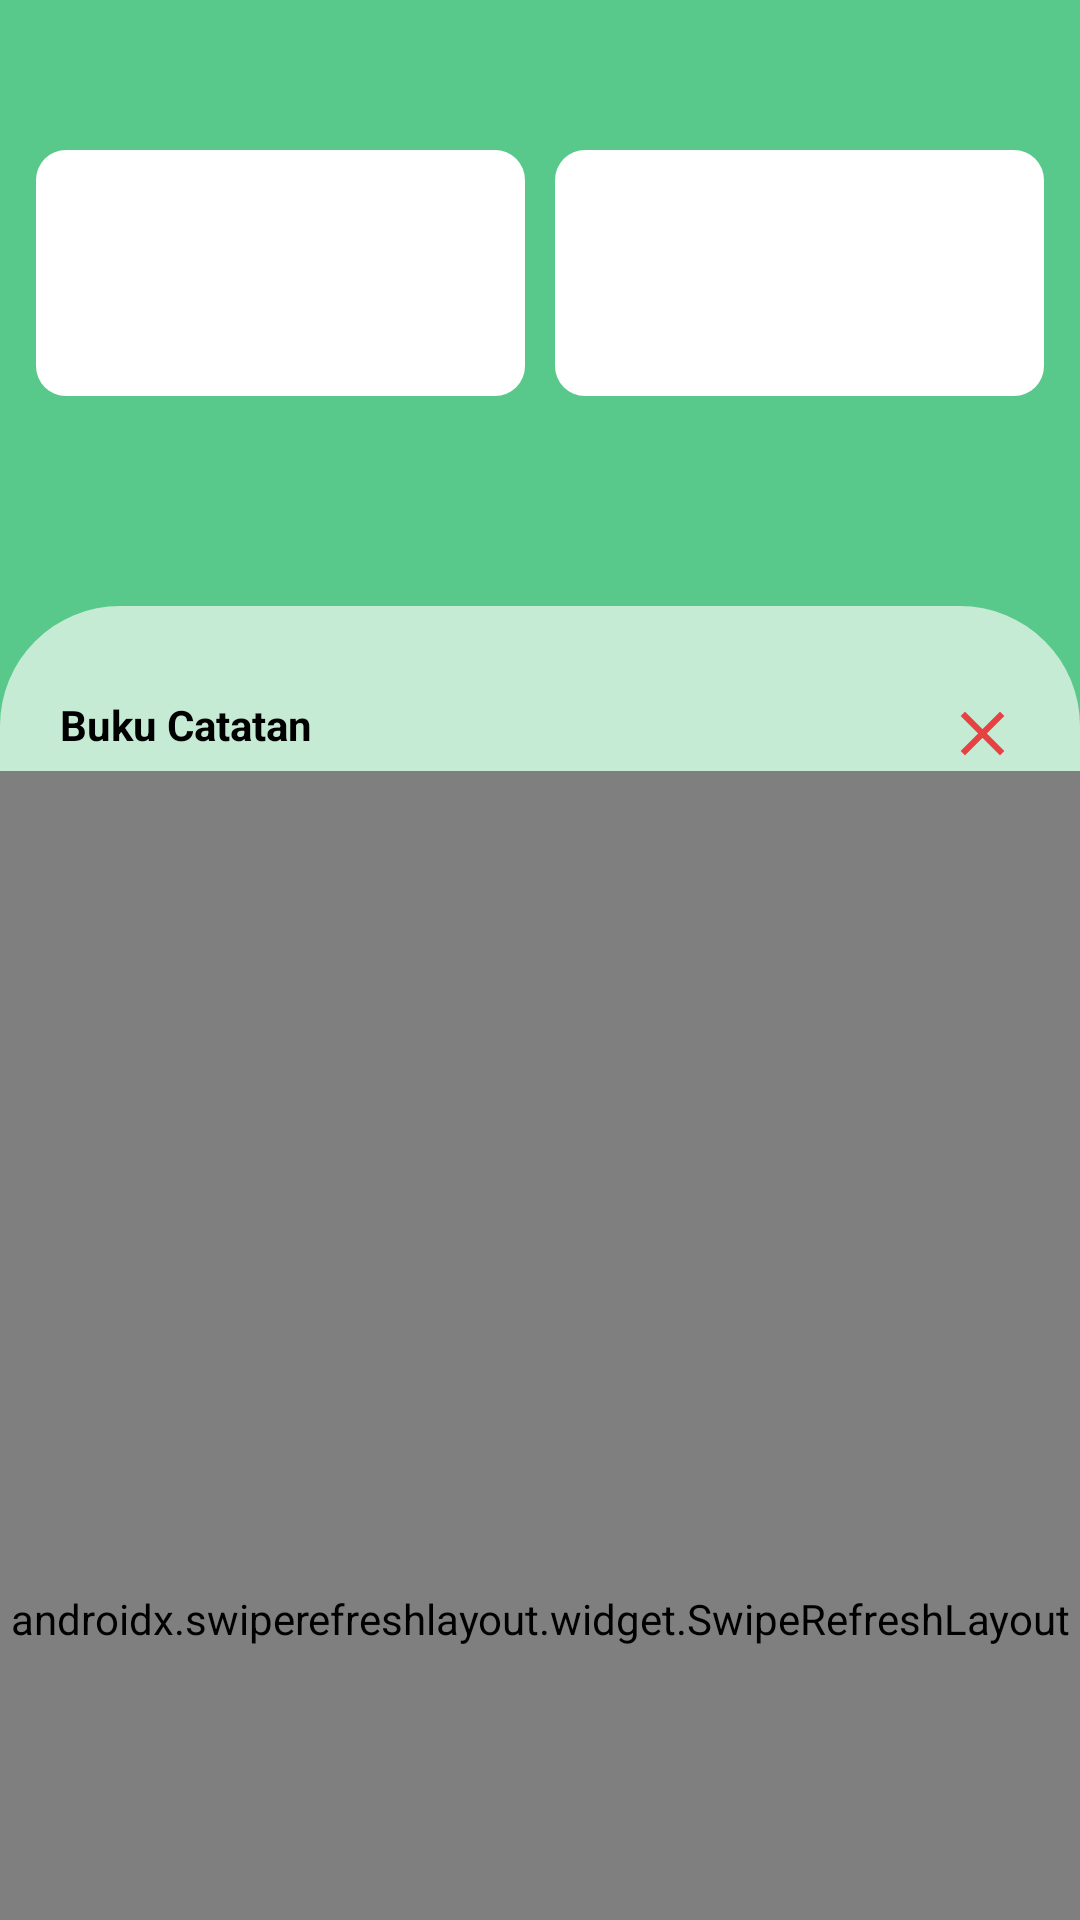

Where to tap for icons on this 1080px×1920px app screen, as point (x, y):
close: point (982, 733)
